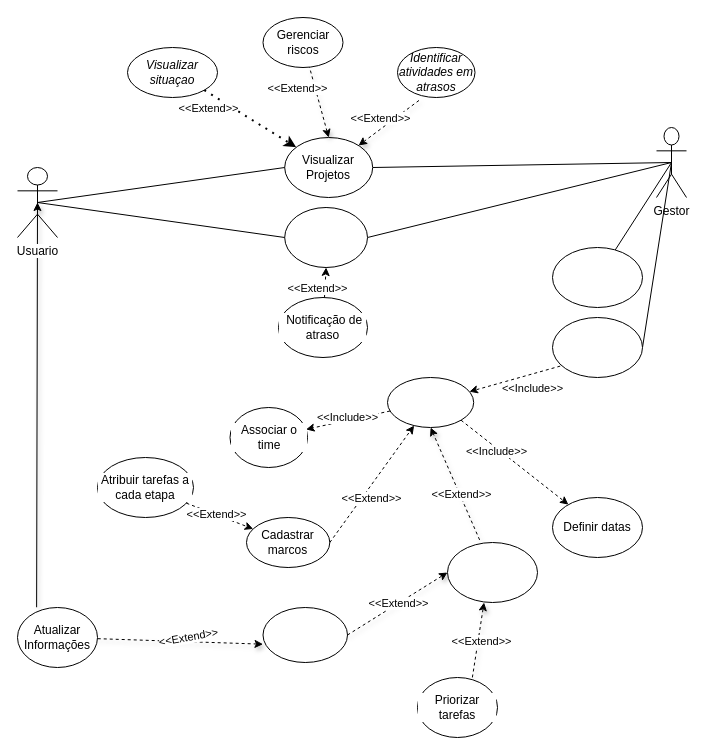
The diagram is 707 pixels wide and 755 high, and some of its shapes have lost their labels. The shapes that lost their labels are listed below. From the top down, each one's centre as x and y in pixels, then its label:
At (x=326, y=237): "Consultar cronogramas".
At (x=597, y=277): "Cadastrar usuarios".
At (x=597, y=347): "Cadastrar projeto".
At (x=430, y=402): "Gerenciar projetos".
At (x=492, y=572): "Criar lista de tarefa".
At (x=305, y=634): "Atribuir tarefas aos membros".
